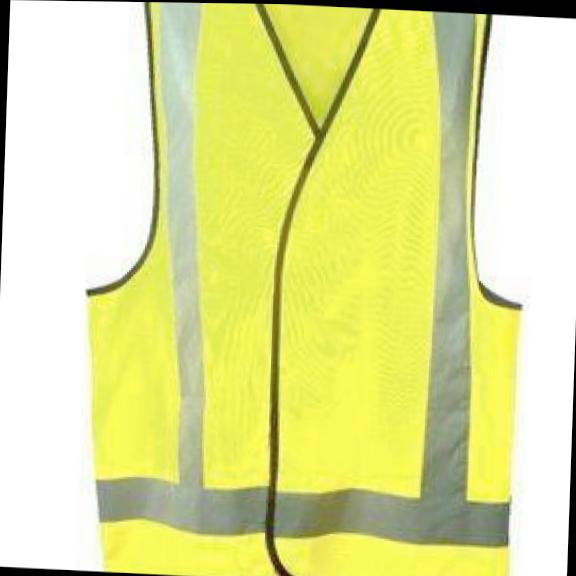safety_vest: (66, 1, 532, 576)
